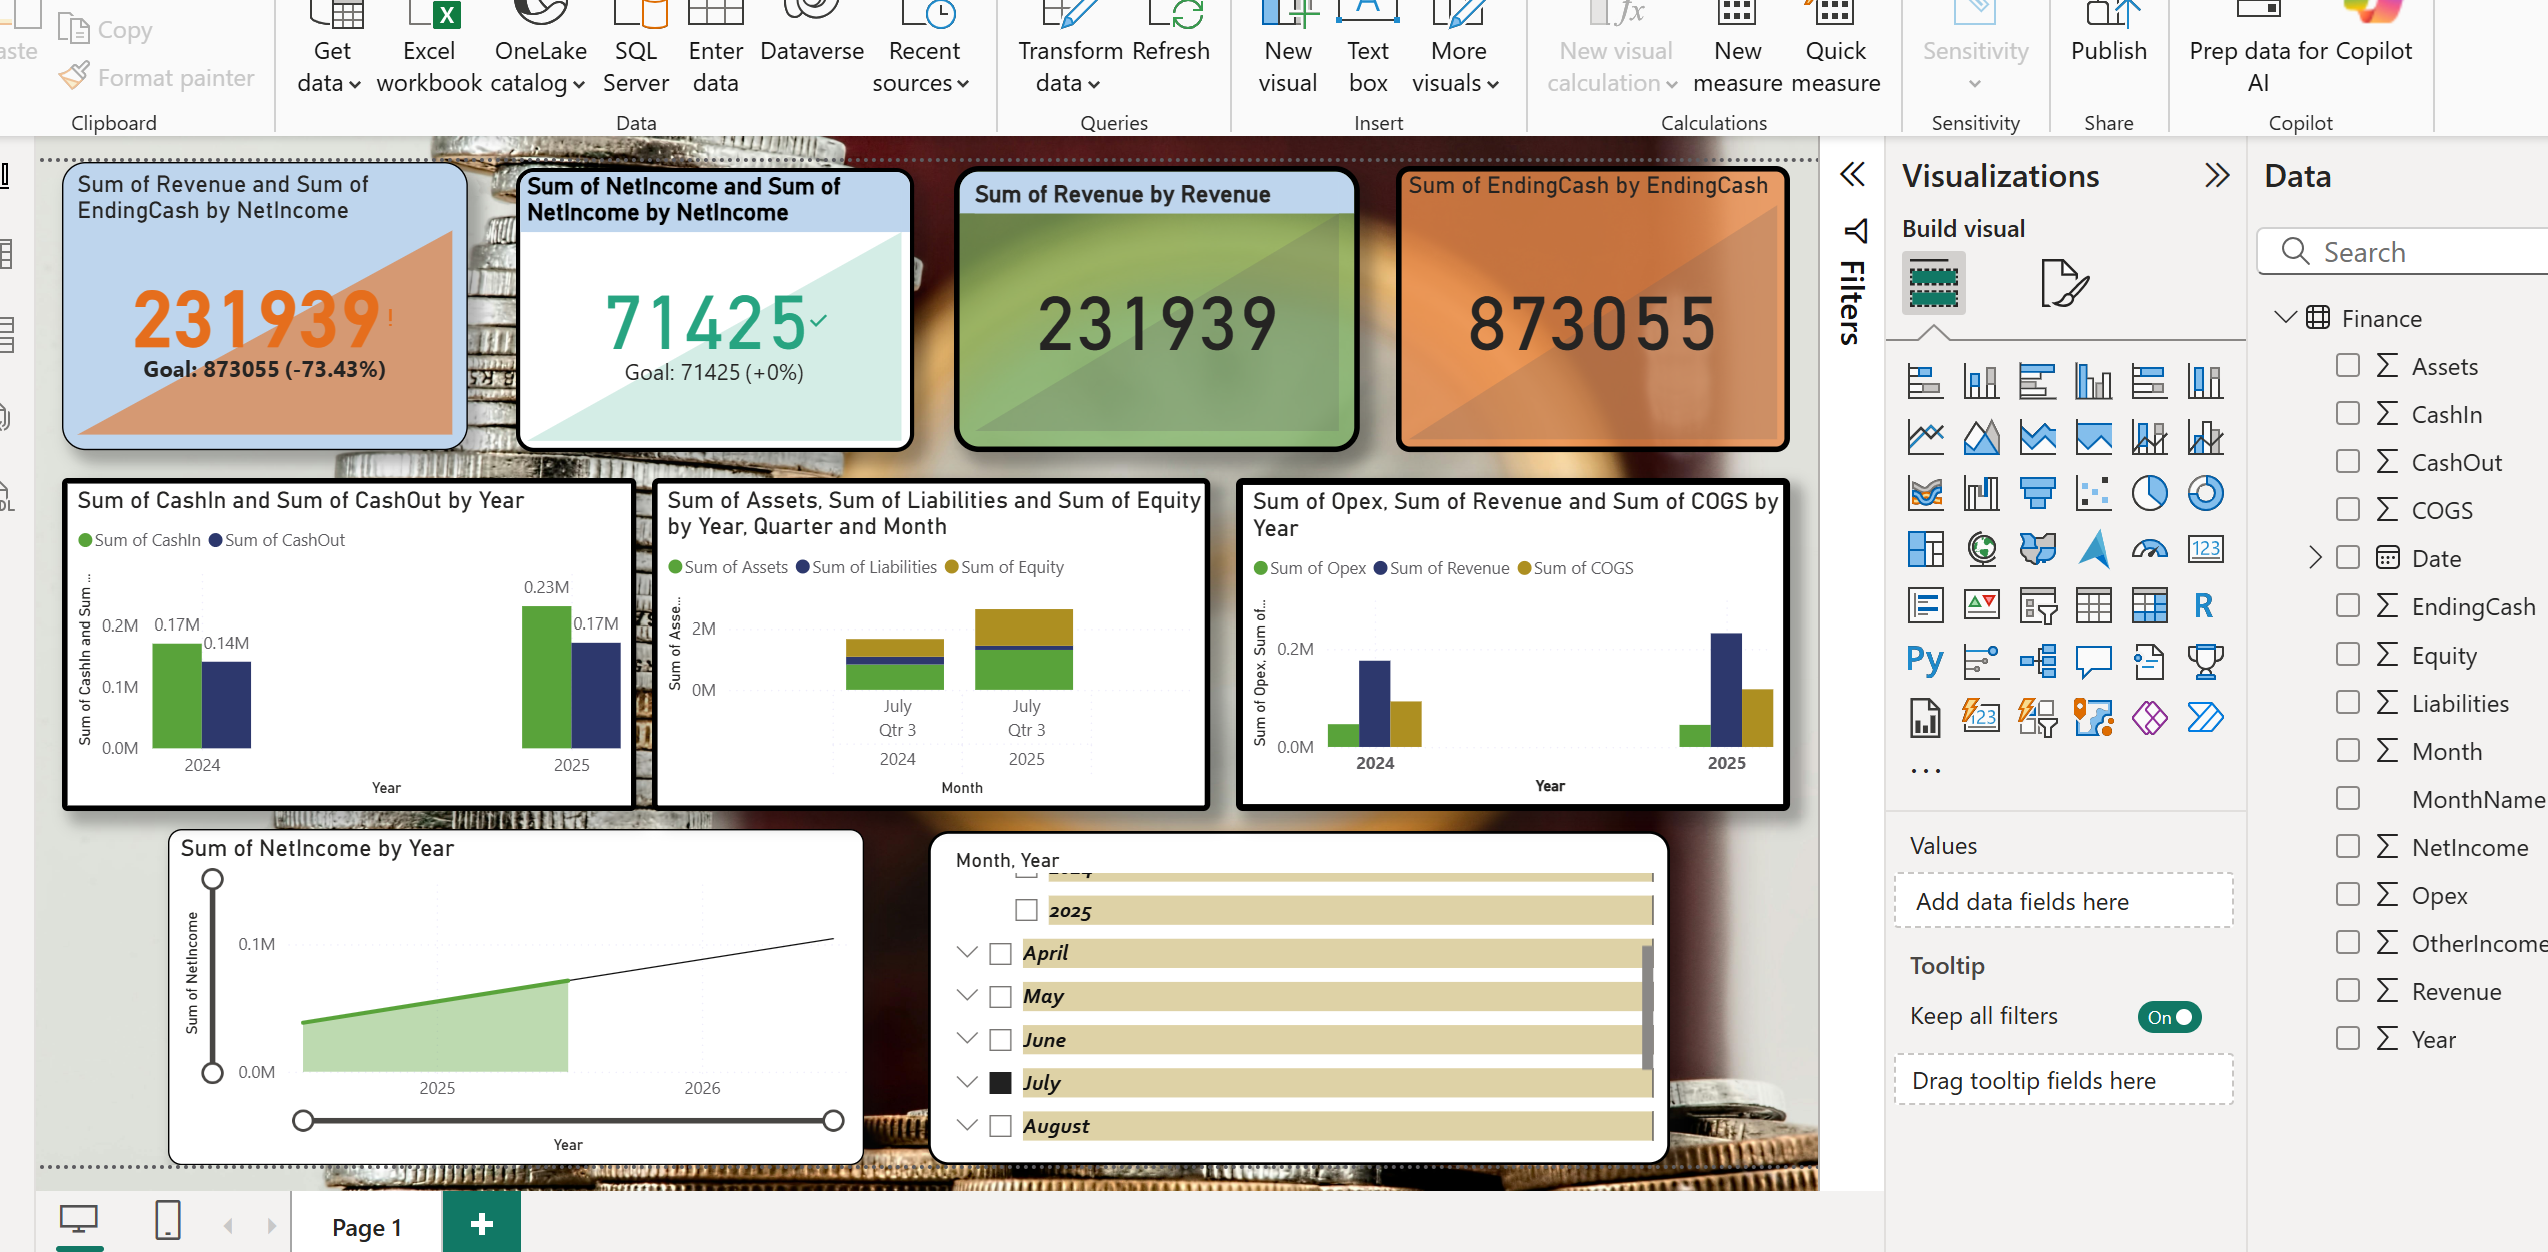

This screenshot's page, from the dashboard's own definition file:
{"tool":"powerbi","page":{"name":"Page 1","canvas":[1280,720],"ordinal":0},"visuals":[{"type":"slicer","fields":{"Values":["Finance.Date.Variation.Date Hierarchy.Month","Finance.Year"]},"box":[640.7,479.8,533,239.9],"z":0},{"type":"kpi","fields":{"Indicator":["Sum(Finance.Revenue)"],"TrendLine":["Finance.NetIncome"],"Goal":["Sum(Finance.EndingCash)"]},"box":[18.7,0,291.6,206.9],"z":1000},{"type":"lineChart","fields":{"Y":["Sum(Finance.NetIncome)"],"Category":["Finance.Date.Variation.Date Hierarchy.Year","Finance.Date.Variation.Date Hierarchy.Quarter","Finance.Date.Variation.Date Hierarchy.Month","Finance.Date.Variation.Date Hierarchy.Day"]},"box":[94.8,478.4,499.9,241.3],"z":2000},{"type":"clusteredColumnChart","fields":{"Category":["Finance.Date.Variation.Date Hierarchy.Year","Finance.Date.Variation.Date Hierarchy.Quarter","Finance.Date.Variation.Date Hierarchy.Month","Finance.Date.Variation.Date Hierarchy.Day"],"Y":["Sum(Finance.Opex)","Sum(Finance.Revenue)","Sum(Finance.COGS)"]},"box":[862,227,397.9,238.5],"z":3000},{"type":"clusteredColumnChart","fields":{"Category":["Finance.Date.Variation.Date Hierarchy.Year","Finance.Date.Variation.Date Hierarchy.Quarter","Finance.Date.Variation.Date Hierarchy.Month","Finance.Date.Variation.Date Hierarchy.Day"],"Y":["Sum(Finance.CashIn)","Sum(Finance.CashOut)"]},"box":[18.7,227,412.3,238.5],"z":4000},{"type":"columnChart","fields":{"Category":["Finance.Date.Variation.Date Hierarchy.Year","Finance.Date.Variation.Date Hierarchy.Quarter","Finance.Date.Variation.Date Hierarchy.Month","Finance.Date.Variation.Date Hierarchy.Day"],"Y":["Sum(Finance.Assets)","Sum(Finance.Liabilities)","Sum(Finance.Equity)"]},"box":[442.5,227,400.8,238.5],"z":5000},{"type":"kpi","fields":{"Indicator":["Sum(Finance.NetIncome)"],"TrendLine":["Finance.NetIncome"],"Goal":["Sum(Finance.NetIncome)"]},"box":[344.8,4.3,285.9,204],"z":6000},{"type":"kpi","fields":{"Indicator":["Sum(Finance.Revenue)"],"TrendLine":["Finance.Revenue"]},"box":[659.4,2.9,291.6,205.4],"z":7000},{"type":"kpi","fields":{"TrendLine":["Finance.EndingCash"],"Indicator":["Sum(Finance.EndingCash)"]},"box":[976.9,2.9,283,205.4],"z":8000}]}

Visuals, with their boxes on the page's 1280x720 design canvas (x1, y1, x2, y2). These are canvas units, not pixel positions in the 2548x1252 screenshot, which may show the page scaled, cropped or inside an application window:
slicer - Finance.Date.Variation.Date Hierarchy.Month x Finance.Year: left=641, top=480, right=1174, bottom=720
kpi - Sum(Finance.Revenue) x Finance.NetIncome: left=19, top=0, right=310, bottom=207
lineChart - Sum(Finance.NetIncome) x Finance.Date.Variation.Date Hierarchy.Year: left=95, top=478, right=595, bottom=720
clusteredColumnChart - Finance.Date.Variation.Date Hierarchy.Year x Finance.Date.Variation.Date Hierarchy.Quarter: left=862, top=227, right=1260, bottom=466
clusteredColumnChart - Finance.Date.Variation.Date Hierarchy.Year x Finance.Date.Variation.Date Hierarchy.Quarter: left=19, top=227, right=431, bottom=466
columnChart - Finance.Date.Variation.Date Hierarchy.Year x Finance.Date.Variation.Date Hierarchy.Quarter: left=442, top=227, right=843, bottom=466
kpi - Sum(Finance.NetIncome) x Finance.NetIncome: left=345, top=4, right=631, bottom=208
kpi - Sum(Finance.Revenue) x Finance.Revenue: left=659, top=3, right=951, bottom=208
kpi - Finance.EndingCash x Sum(Finance.EndingCash): left=977, top=3, right=1260, bottom=208
